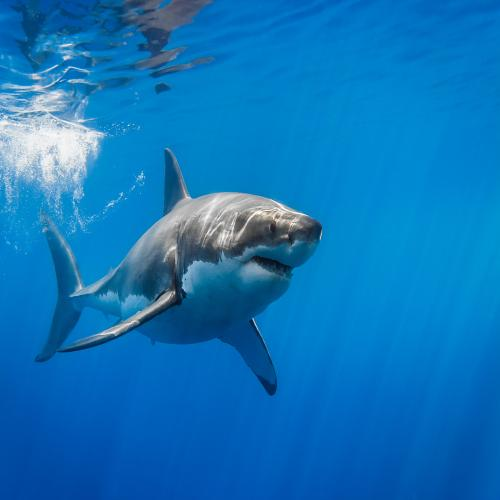shark-endangered: (84, 181, 329, 353)
